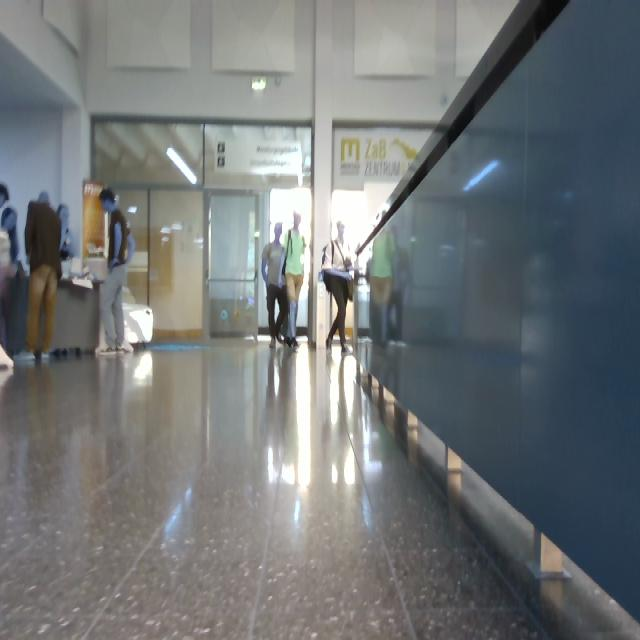door: (149, 189, 205, 341), (208, 192, 259, 340)
light bulb: (462, 158, 501, 193), (166, 146, 198, 185), (251, 76, 267, 92), (161, 227, 172, 235), (128, 205, 137, 214), (161, 236, 170, 244)
person: (18, 190, 63, 361), (98, 188, 135, 354), (322, 221, 355, 354), (369, 214, 396, 348), (261, 222, 289, 349), (282, 210, 307, 349), (1, 182, 19, 368)
staircase: (350, 1, 639, 638)
